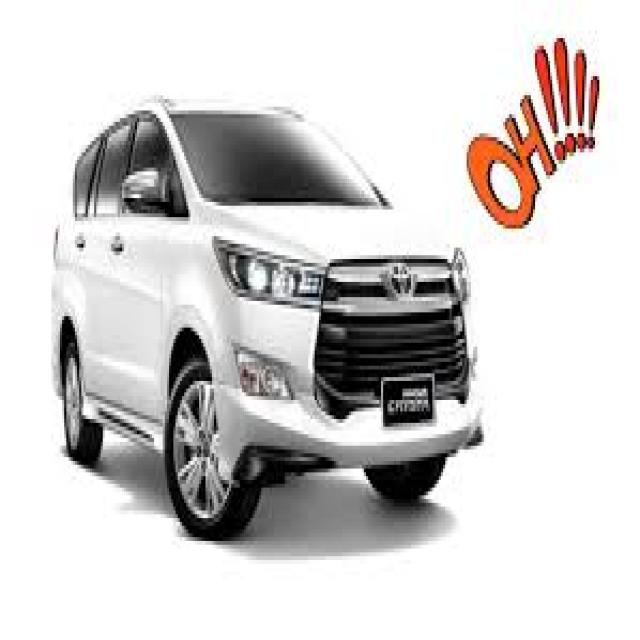light_vehicle: (52, 98, 483, 542)
